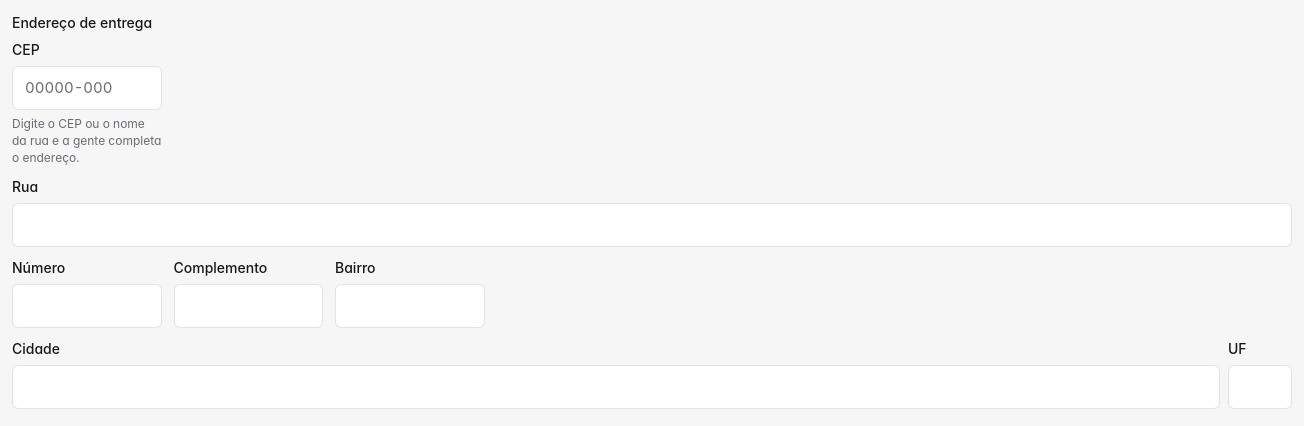
Test: Endereço digitado pela equipe › CEP digitado preenche rua e bairro
The width and height of the screenshot is (1304, 426).
Type "01310100" into the field labelled "CEP" at (87, 88), box [12, 66, 162, 110]
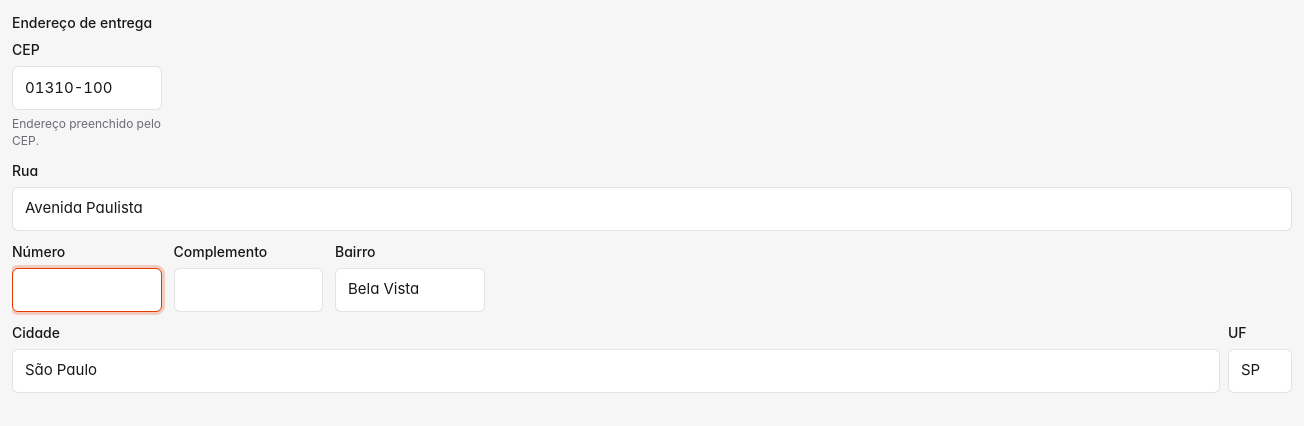
Expected: the dropdown labelled "Rua" holds "Avenida Paulista", [12, 187, 1292, 231]
Expected: the field labelled "Bairro" holds "Bela Vista", [335, 268, 484, 312]
